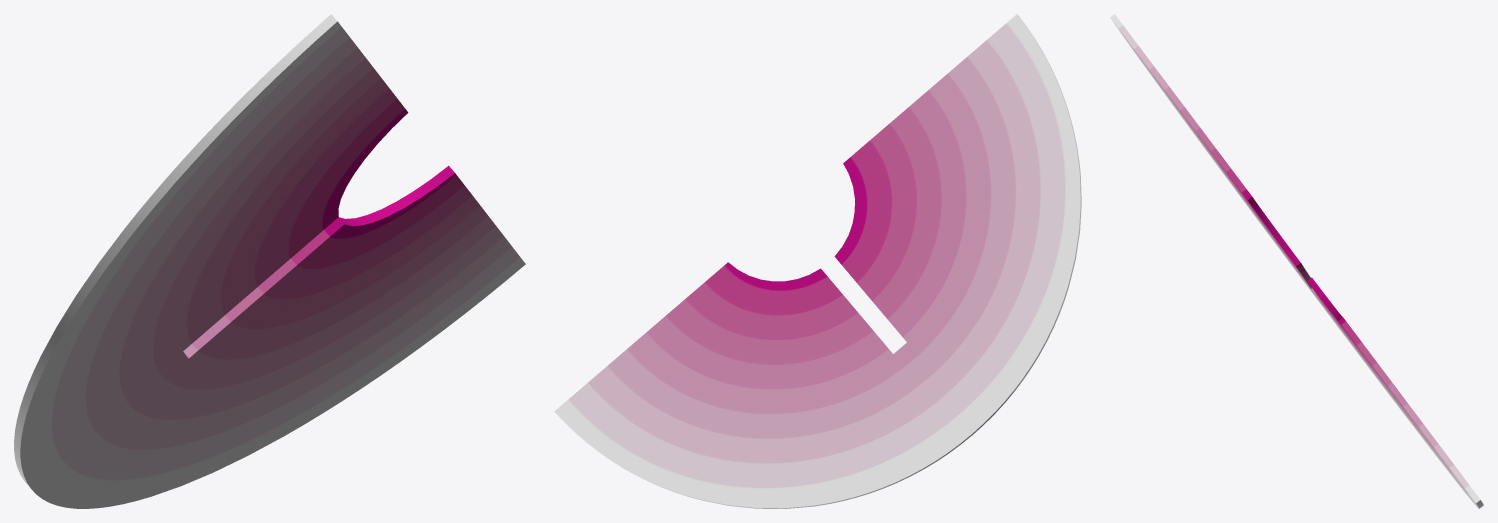
Rendered from SVD6_1.glb.
3 views of the same model, side by side, from view 1: azimuth 30°, elevation 25°; view 2: azimuth 150°, elevation 25°; view 3: azimuth 270°, elevation 25° (orthographic). The views are drawn at different scales.
Parts seen in each view (by area): view 1: a11a5ec5-8ead-45b8-9e66-54805de04663; view 2: a11a5ec5-8ead-45b8-9e66-54805de04663; view 3: a11a5ec5-8ead-45b8-9e66-54805de04663.
Boxes of the visible parts, x1,y1,x2,y2 form: a11a5ec5-8ead-45b8-9e66-54805de04663: (14, 14, 525, 508); a11a5ec5-8ead-45b8-9e66-54805de04663: (554, 14, 1081, 508); a11a5ec5-8ead-45b8-9e66-54805de04663: (1110, 14, 1483, 508).
Bounding box in the file's own units: 3.15 × 3.07 × 2.54.
1 material, 1 textured.
